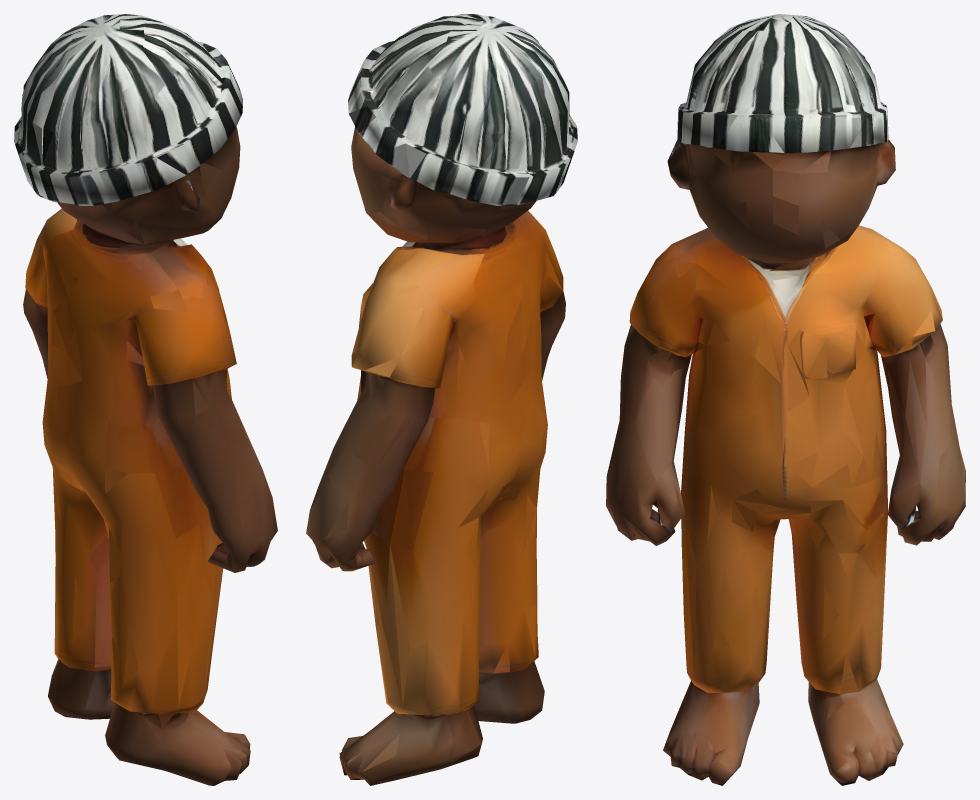
3 renders of one model, left to right at view 1: azimuth 30°, elevation 25°; view 2: azimuth 150°, elevation 25°; view 3: azimuth 270°, elevation 25°, orthographic. The views are drawn at different scales.
Visible parts, largest first — view 1: tripo_node_97da62d0; view 2: tripo_node_97da62d0; view 3: tripo_node_97da62d0.
Part boxes in pixels (x1,y1,x2,y2): tripo_node_97da62d0: (14, 14, 277, 785); tripo_node_97da62d0: (306, 14, 577, 785); tripo_node_97da62d0: (606, 14, 965, 785).
Size of the model in its own units: 28.79 by 99.99 by 45.18.
1 material, 1 textured.
